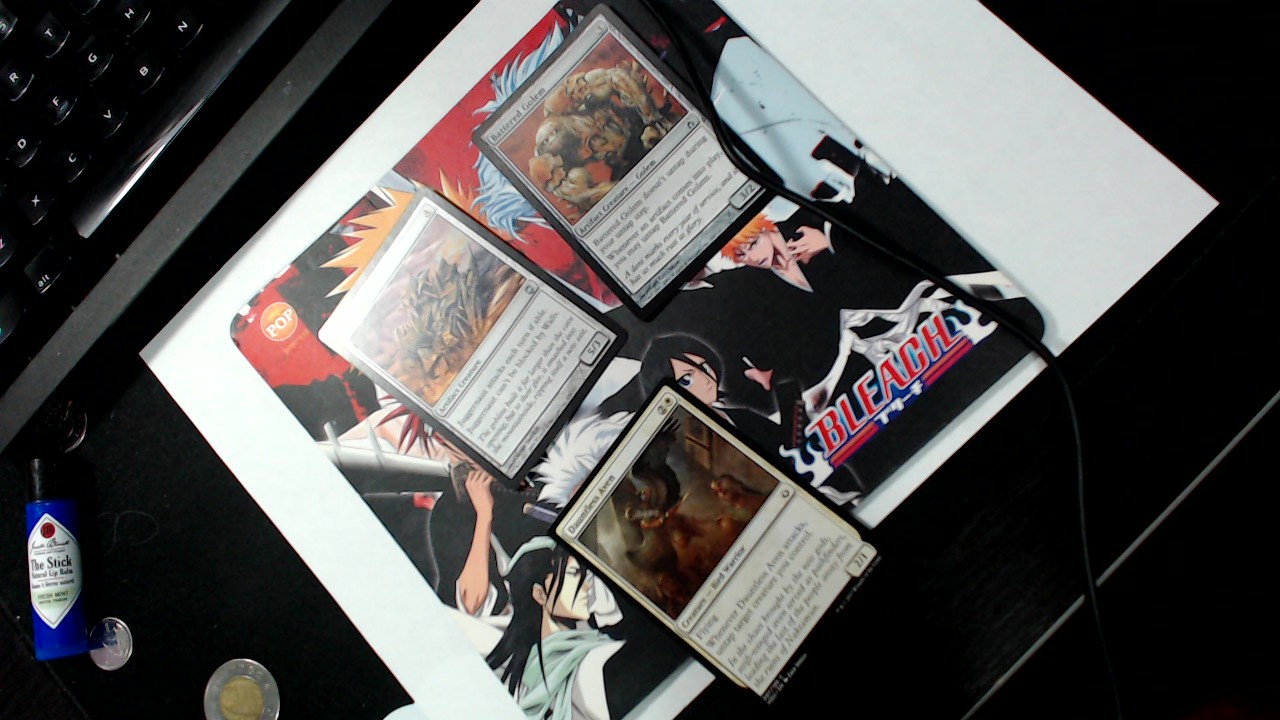MTG Card: (537, 374, 900, 713), (468, 3, 789, 332), (306, 180, 626, 498)
